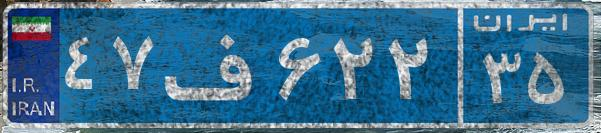2: (385, 28, 445, 110), (330, 28, 385, 110)
3: (475, 38, 525, 113)
4: (57, 26, 110, 107)
5: (525, 38, 570, 115)
6: (273, 28, 330, 110)
7: (110, 28, 158, 105)
ف: (158, 15, 273, 115)
